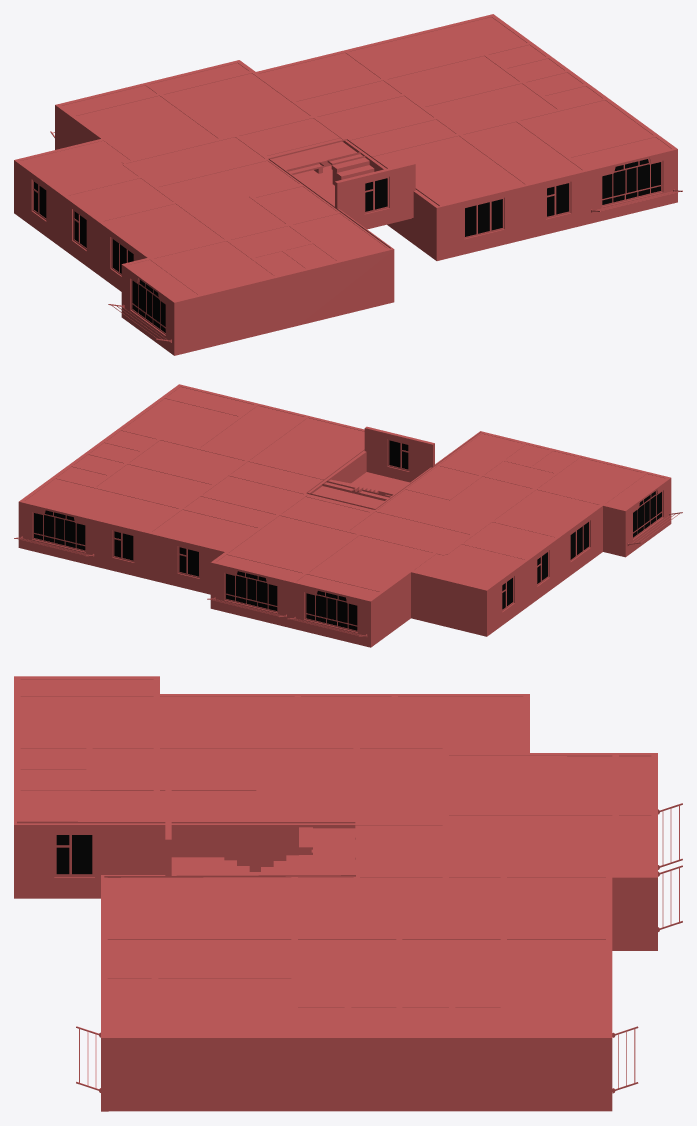
The model's file is SM_house_section_26.fbx.
3 renders of one model, top to bottom at view 1: azimuth 30°, elevation 25°; view 2: azimuth 150°, elevation 25°; view 3: azimuth 270°, elevation 25°, orthographic. The views are drawn at different scales.
Visible parts, largest first — view 1: Boole_8; view 2: Boole_8; view 3: Boole_8.
Boxes of the visible parts, <box> form: Boole_8: <box>14,14,682,355</box>; Boole_8: <box>14,384,682,647</box>; Boole_8: <box>14,676,682,1111</box>.
Size of the model in its own units: 2712 by 376 by 2061.
